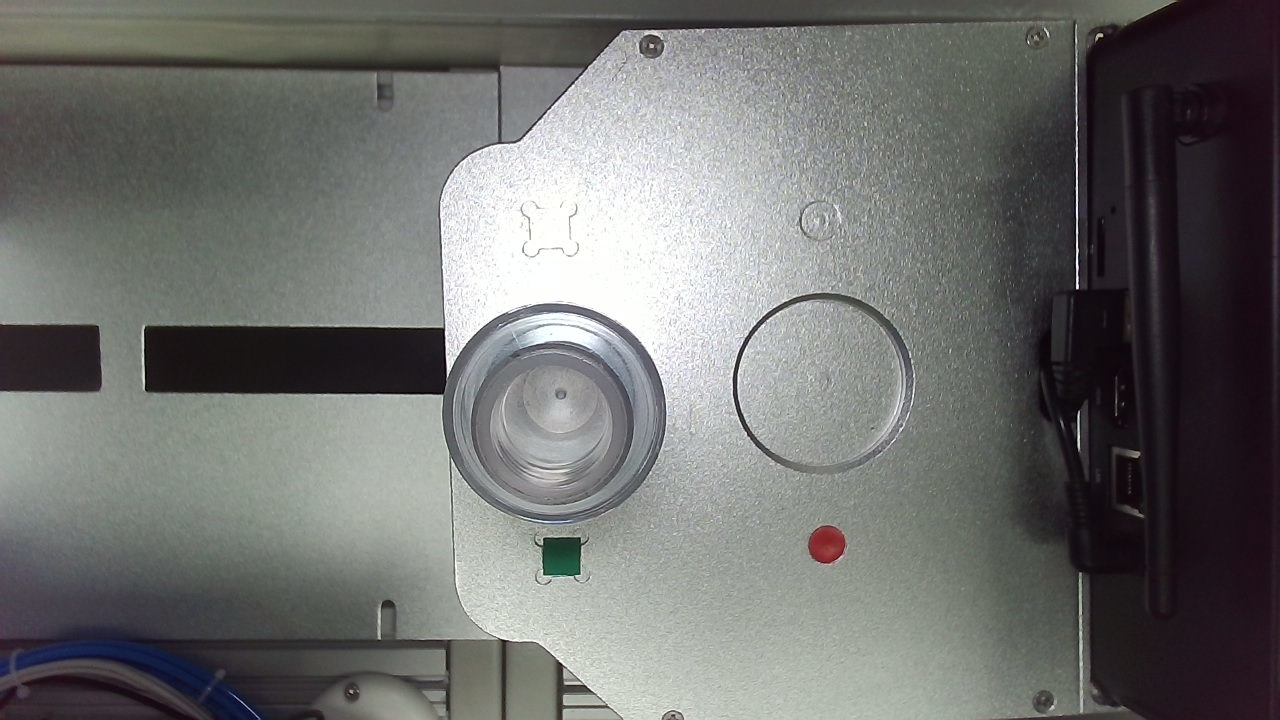XLabel: (678, 289, 711, 321)
YLabel: (458, 295, 493, 330)
none: (623, 359, 783, 521)
transparenexcept: (317, 362, 561, 578)
